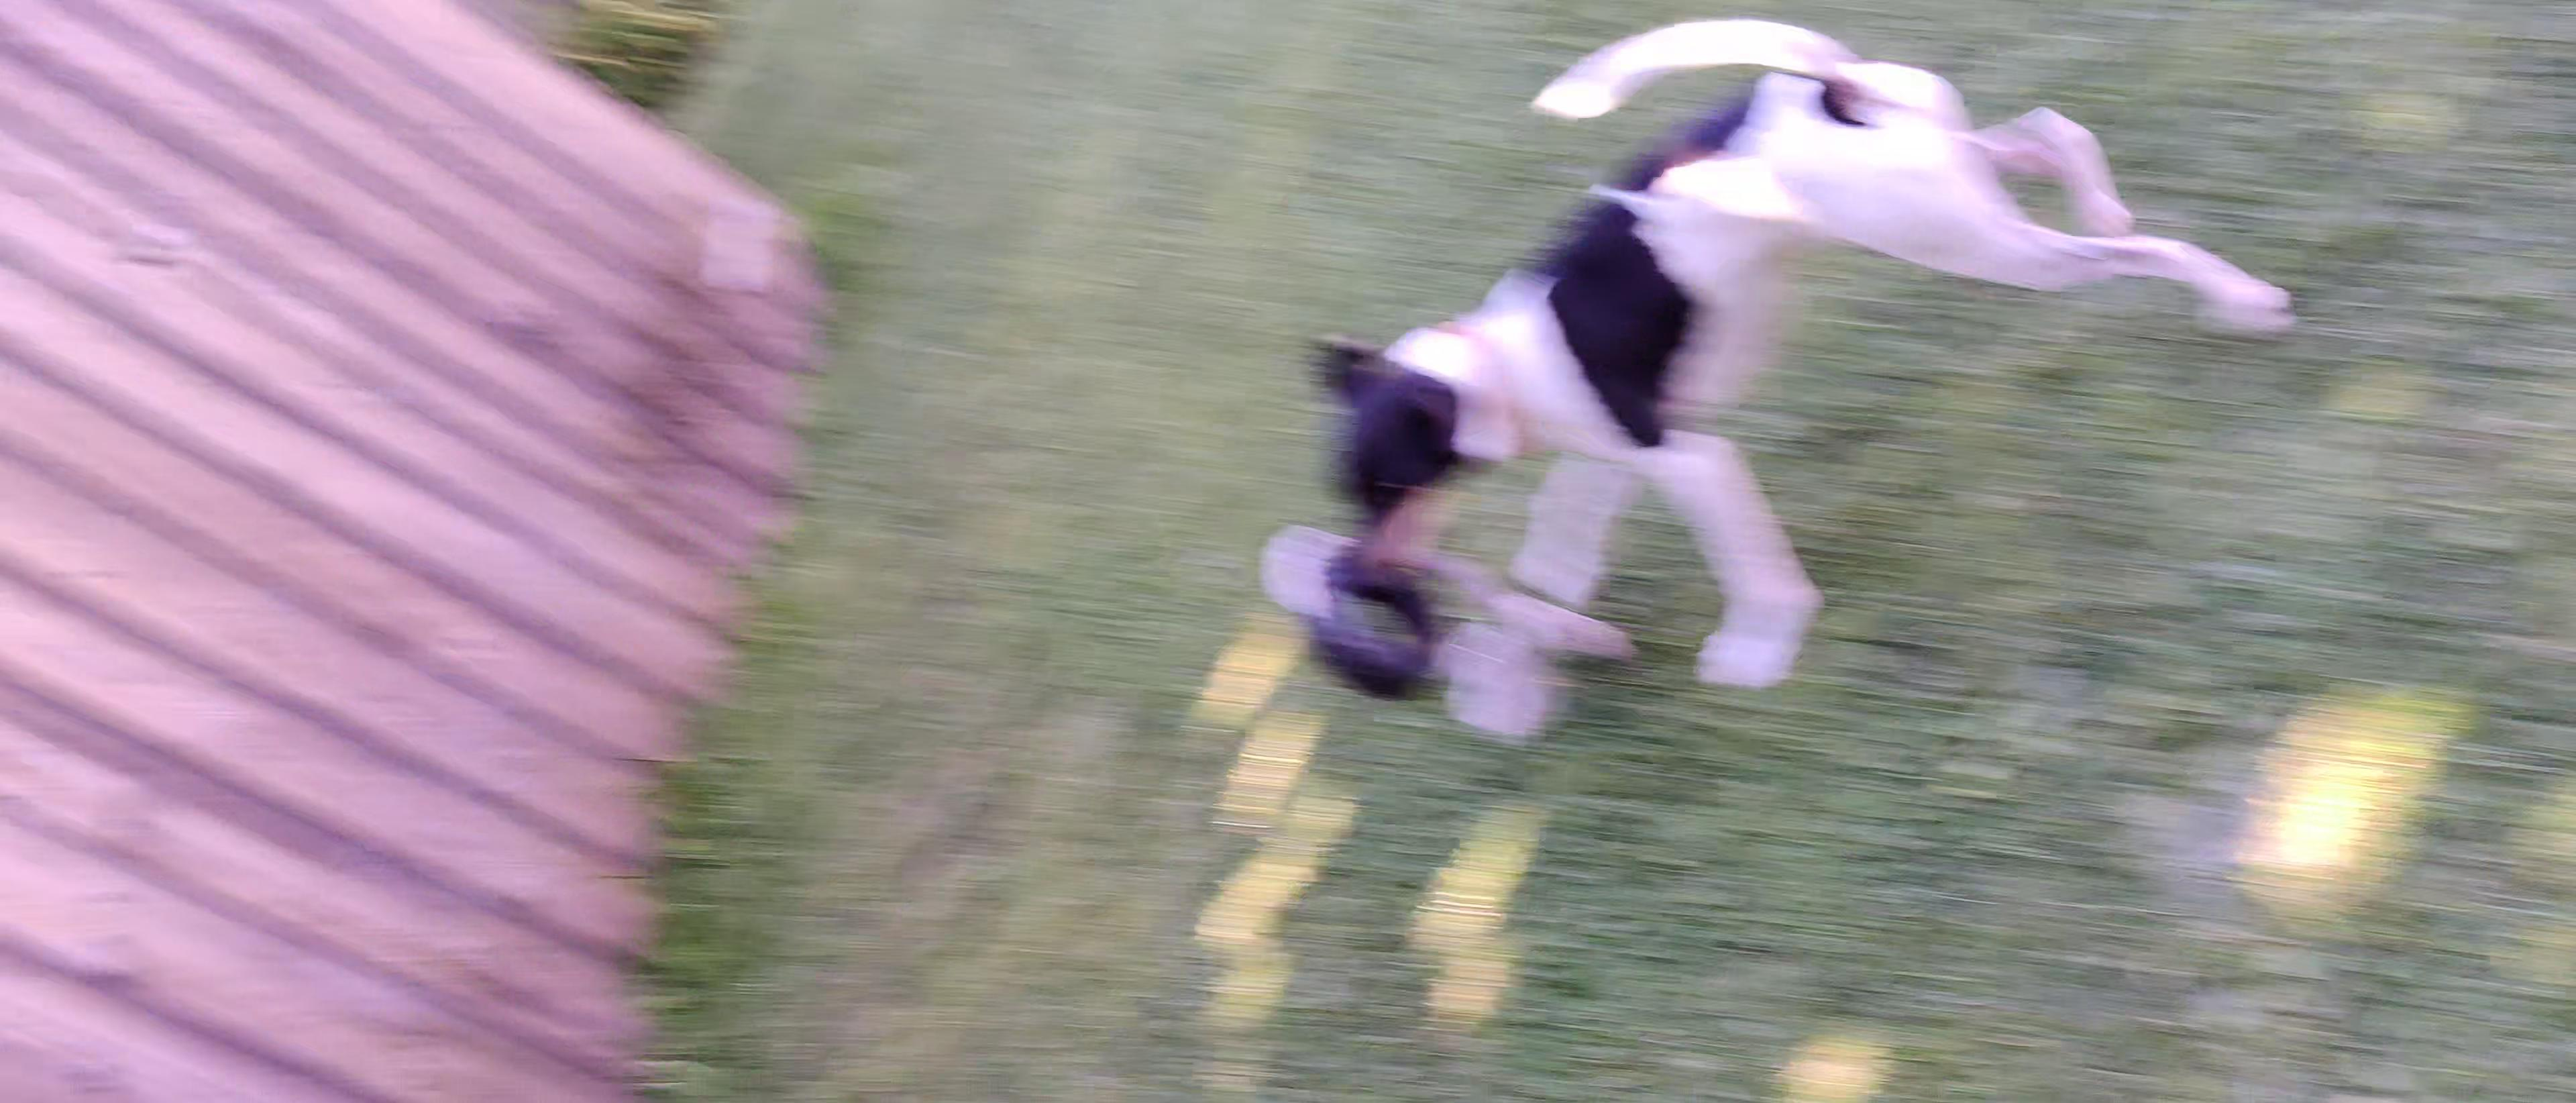Dog: (1291, 5, 2305, 694)
